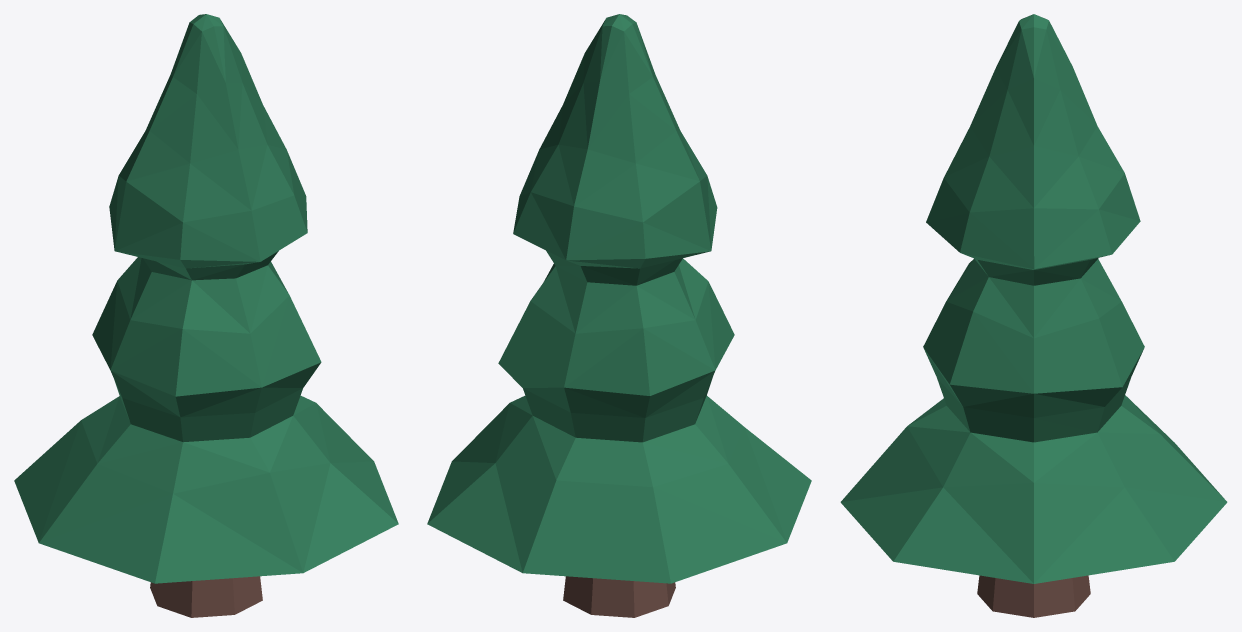
File: drzewo_9.fbx
The picture shows the model from 3 angles, left to right: view 1: azimuth 30°, elevation 25°; view 2: azimuth 150°, elevation 25°; view 3: azimuth 270°, elevation 25°; orthographic projection.
Visible parts, largest first — view 1: Cube.003; view 2: Cube.003; view 3: Cube.003.
Part boxes in pixels (left/top/right/bottom): Cube.003: left=14, top=14, right=398, bottom=617; Cube.003: left=427, top=14, right=811, bottom=617; Cube.003: left=840, top=14, right=1227, bottom=617.
Bounding box in the file's own units: 1476 × 2439 × 1476.
